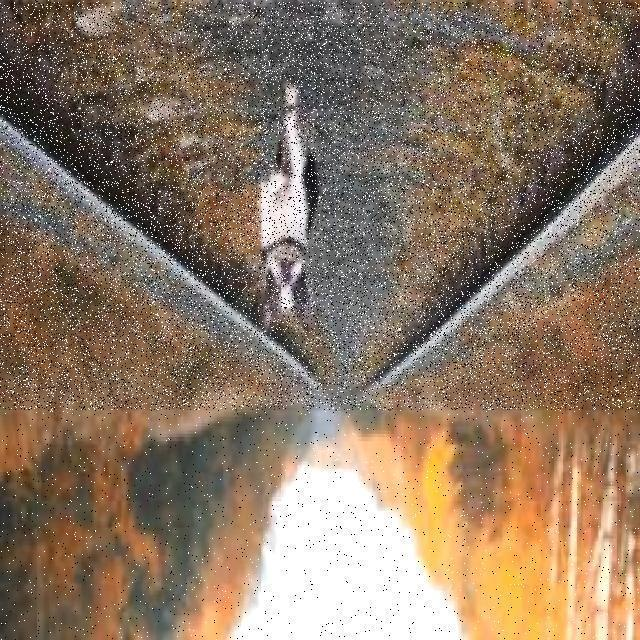rail: (1, 3, 640, 411)
